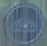bike lane: (3, 2, 41, 45)
